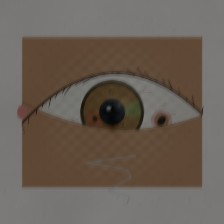foreign_body_visible: (137, 101, 186, 140)
